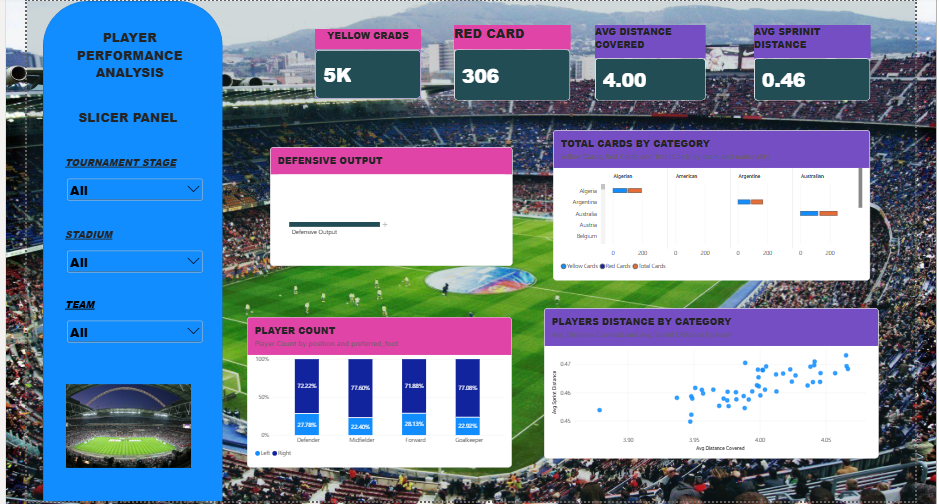

The dashboard page shown, as its layout file describes it:
{"tool":"powerbi","page":{"name":"Physicality, Tactics and Squad Analytics Dashboard","canvas":[1920,1080],"ordinal":1},"visuals":[{"type":"decompositionTreeVisual","title":"DEFENSIVE OUTPUT","fields":{"Analyze":["fifa_world_cup_2026_player_performance.Defensive Output"],"ExplainBy":["fifa_world_cup_2026_player_performance.position","fifa_world_cup_2026_player_performance.Height Band","fifa_world_cup_2026_player_performance.preferred_foot"]},"box":[524.1,315,524.1,257],"z":1},{"type":"hundredPercentStackedColumnChart","title":"PLAYER COUNT","fields":{"Category":["fifa_world_cup_2026_player_performance.position"],"Series":["fifa_world_cup_2026_player_performance.preferred_foot"],"Y":["fifa_world_cup_2026_player_performance.Player Count"]},"box":[476.2,682.8,572,325],"z":2},{"type":"barChart","title":"TOTAL CARDS BY CATEGORY","fields":{"Category":["fifa_world_cup_2026_player_performance.team"],"Rows":["fifa_world_cup_2026_player_performance.nationality"],"Y":["fifa_world_cup_2026_player_performance.Yellow Cards","fifa_world_cup_2026_player_performance.Red Cards","fifa_world_cup_2026_player_performance.Total Cards"]},"box":[1136.4,279.7,685.4,325],"z":4},{"type":"scatterChart","title":"PLAYERS DISTANCE BY CATEGORY","fields":{"Category":["fifa_world_cup_2026_player_performance.team"],"X":["fifa_world_cup_2026_player_performance.Avg Distance Covered"],"Y":["fifa_world_cup_2026_player_performance.Avg Sprint Distance"]},"box":[1116.2,662.7,723.1,325],"z":5},{"type":"cardVisual","title":"RED CARD","fields":{"Data":["fifa_world_cup_2026_player_performance.Red Cards"]},"box":[922.2,52.9,252,163.8],"z":6},{"type":"cardVisual","title":"YELLOW CRADS","fields":{"Data":["fifa_world_cup_2026_player_performance.Yellow Cards"]},"box":[622.4,60.5,229.3,151.2],"z":7},{"type":"cardVisual","title":"AVG DISTANCE COVERED","fields":{"Data":["fifa_world_cup_2026_player_performance.Avg Distance Covered"]},"box":[1227.1,52.9,239.4,163.8],"z":8},{"type":"cardVisual","title":"AVG SPRINIT DISTANCE","fields":{"Data":["fifa_world_cup_2026_player_performance.Avg Sprint Distance"]},"box":[1569.8,52.9,252,163.8],"z":9},{"type":"shape","box":[35.3,0,388,1080.9],"z":10},{"type":"textbox","box":[58,60.5,327.6,131],"z":11},{"type":"textbox","box":[83.1,234.3,272.1,80.6],"z":12},{"type":"slicer","title":"TOURNAMENT STAGE","fields":{"Values":["fifa_world_cup_2026_player_performance.tournament_stage"]},"box":[83.1,335.1,302.4,128.5],"z":13},{"type":"slicer","title":"STADIUM","fields":{"Values":["fifa_world_cup_2026_player_performance.stadium"]},"box":[83.1,491.3,302.4,133.5],"z":14},{"type":"slicer","title":"TEAM","fields":{"Values":["fifa_world_cup_2026_player_performance.team"]},"box":[83.1,642.5,302.4,183.9],"z":15},{"type":"image","box":[85,790,270,255],"z":16}]}

Visuals, with their boxes on the page's 1920x1080 design canvas (x1, y1, x2, y2). These are canvas units, not pixel positions in the 939x504 screenshot, which may show the page scaled, cropped or inside an application window:
"DEFENSIVE OUTPUT" decompositionTreeVisual: {"left": 524, "top": 315, "right": 1048, "bottom": 572}
"PLAYER COUNT" hundredPercentStackedColumnChart: {"left": 476, "top": 683, "right": 1048, "bottom": 1008}
"TOTAL CARDS BY CATEGORY" barChart: {"left": 1136, "top": 280, "right": 1822, "bottom": 605}
"PLAYERS DISTANCE BY CATEGORY" scatterChart: {"left": 1116, "top": 663, "right": 1839, "bottom": 988}
"RED CARD" cardVisual: {"left": 922, "top": 53, "right": 1174, "bottom": 217}
"YELLOW CRADS" cardVisual: {"left": 622, "top": 60, "right": 852, "bottom": 212}
"AVG DISTANCE COVERED" cardVisual: {"left": 1227, "top": 53, "right": 1466, "bottom": 217}
"AVG SPRINIT DISTANCE" cardVisual: {"left": 1570, "top": 53, "right": 1822, "bottom": 217}
shape: {"left": 35, "top": 0, "right": 423, "bottom": 1081}
textbox: {"left": 58, "top": 60, "right": 386, "bottom": 192}
textbox: {"left": 83, "top": 234, "right": 355, "bottom": 315}
"TOURNAMENT STAGE" slicer: {"left": 83, "top": 335, "right": 386, "bottom": 464}
"STADIUM" slicer: {"left": 83, "top": 491, "right": 386, "bottom": 625}
"TEAM" slicer: {"left": 83, "top": 642, "right": 386, "bottom": 826}
image: {"left": 85, "top": 790, "right": 355, "bottom": 1045}
